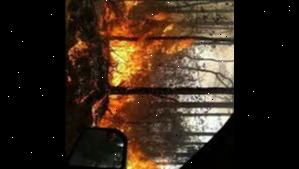fire: (108, 40, 200, 86), (102, 2, 175, 38), (130, 143, 158, 169), (106, 95, 134, 114), (68, 35, 88, 61)
